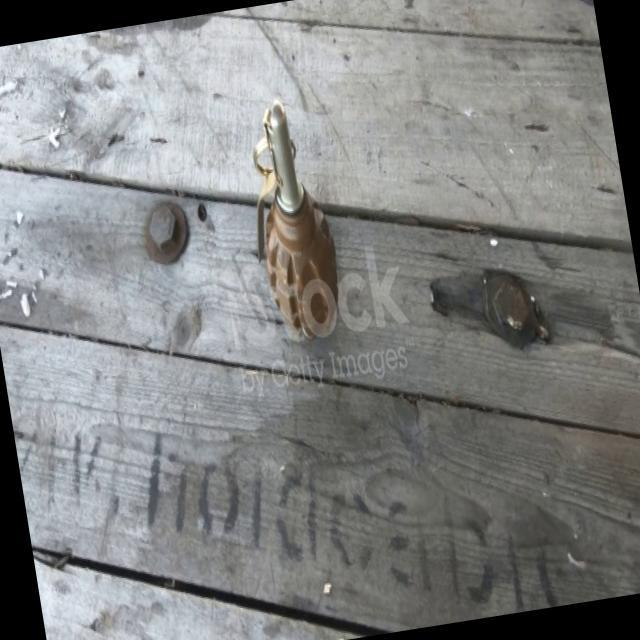grenade: (234, 92, 355, 350)
